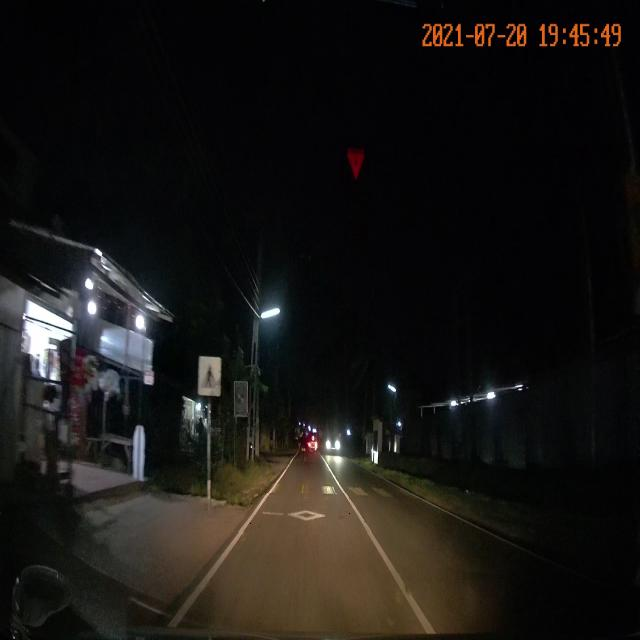diamond: (234, 493, 375, 532)
